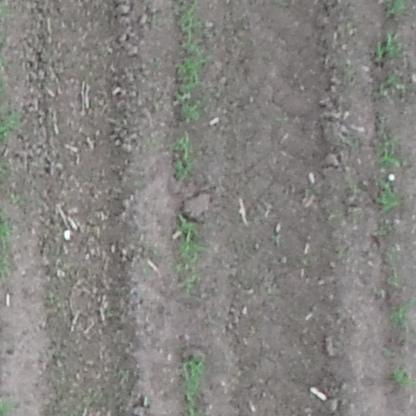corn: (170, 211, 212, 292), (168, 41, 207, 120), (179, 350, 210, 414), (164, 129, 199, 181), (371, 175, 404, 221), (372, 25, 405, 66), (175, 3, 204, 37), (378, 131, 404, 168)
